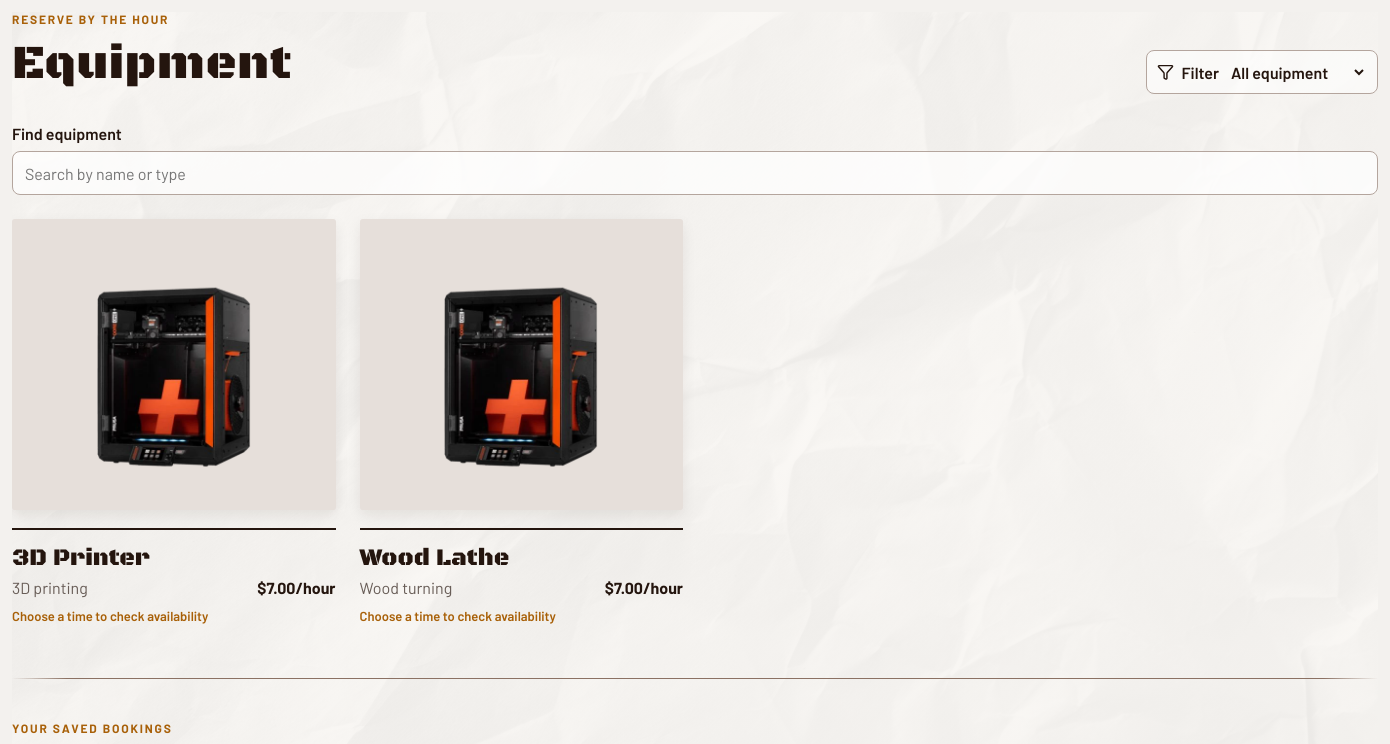
Scenario: equipment search matches name or type and links straight to saved bookings
The image size is (1390, 744).
Expected: the heading "Equipment" is shown, [12,34,292,94]
Type "WOOD" into the search field labelled "Find equipment".
click(695, 173); type("WOOD")  # box [12,151,1378,195]
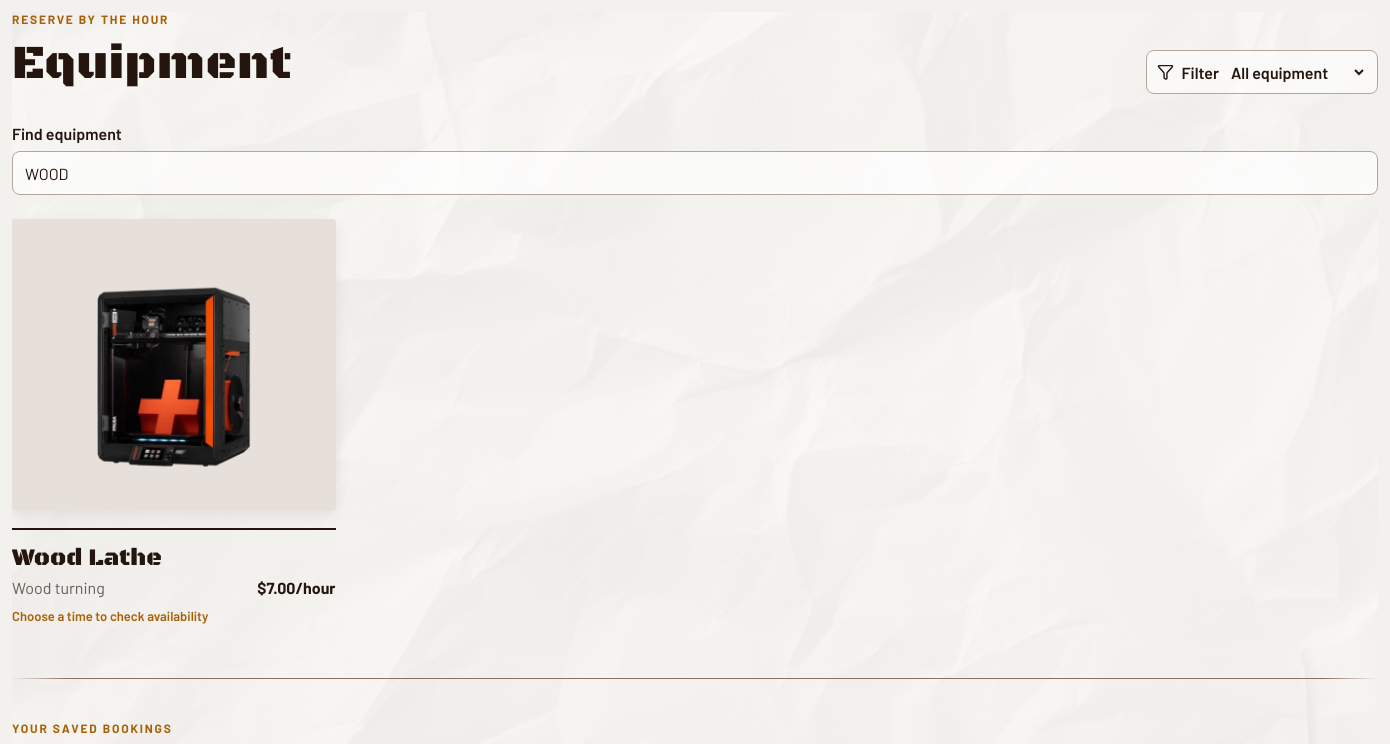
Expected: the button "Wood Lathe" is shown, [12,219,336,624]
Result: the button "3D Printer" is gone
Replace the text in the search field with "no such machine" at {"x": 695, "y": 173}, box [12,151,1378,195]
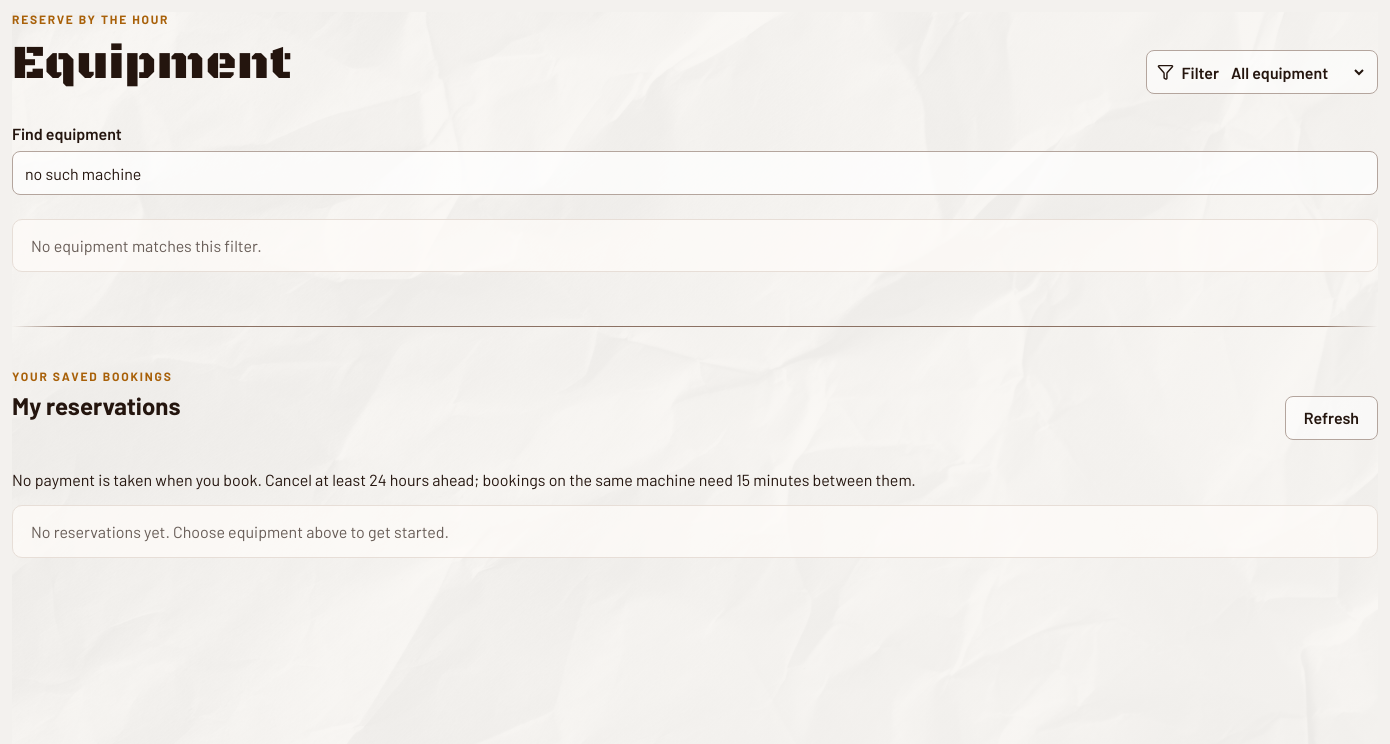
Result: the text "No equipment matches this filter." is shown at [12,219,1378,272]
